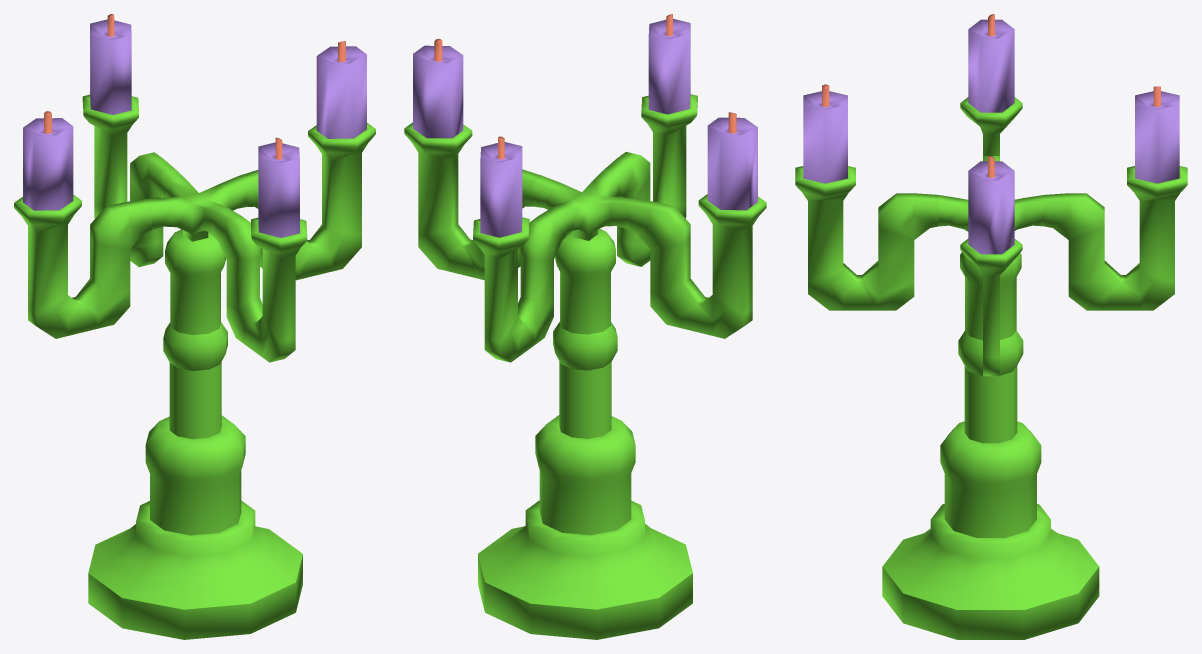
File: chandelier.fbx
3 renders of one model, left to right at view 1: azimuth 30°, elevation 25°; view 2: azimuth 150°, elevation 25°; view 3: azimuth 270°, elevation 25°, orthographic.
Parts seen in each view (by area): view 1: candlelier; view 2: candlelier; view 3: candlelier.
Part boxes in pixels (x1,y1,x2,y2): candlelier: (14,14,375,639); candlelier: (404,14,766,639); candlelier: (795,14,1187,639).
Bounding box in the file's own units: 61.54 × 87.66 × 61.04.
